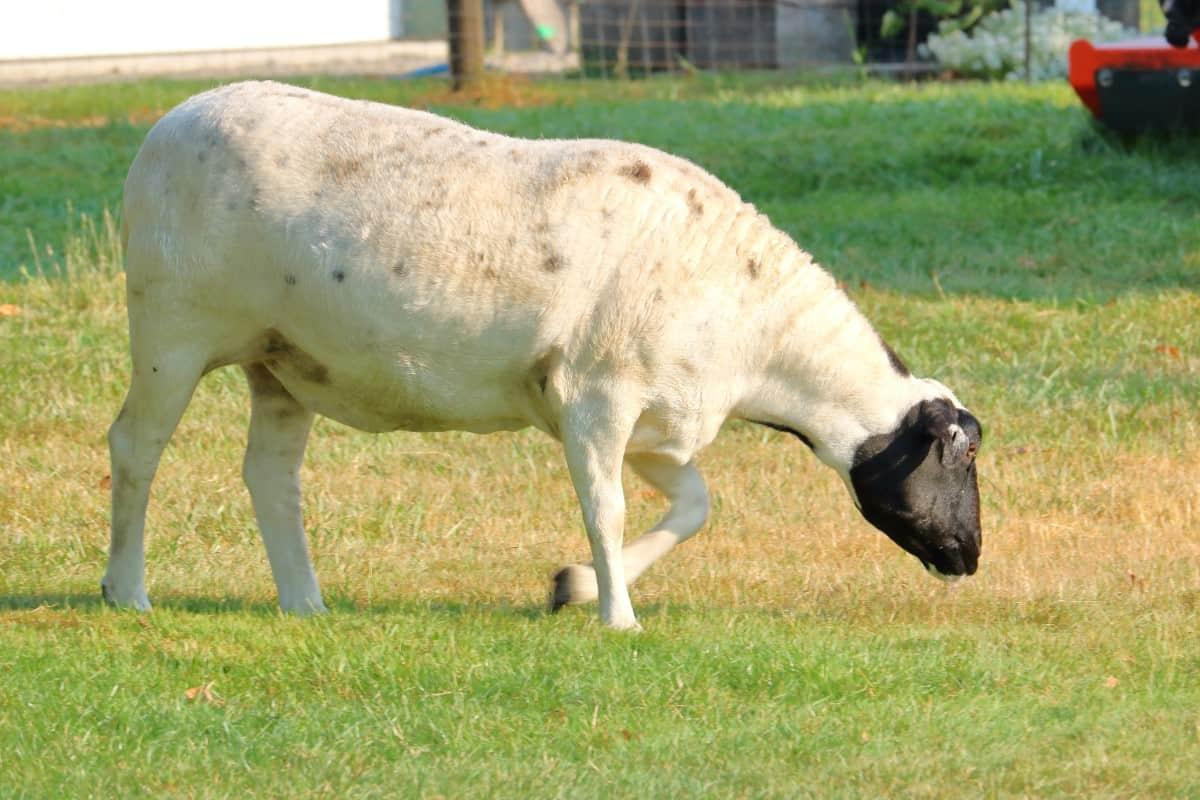fracture: (480, 422, 763, 696)
